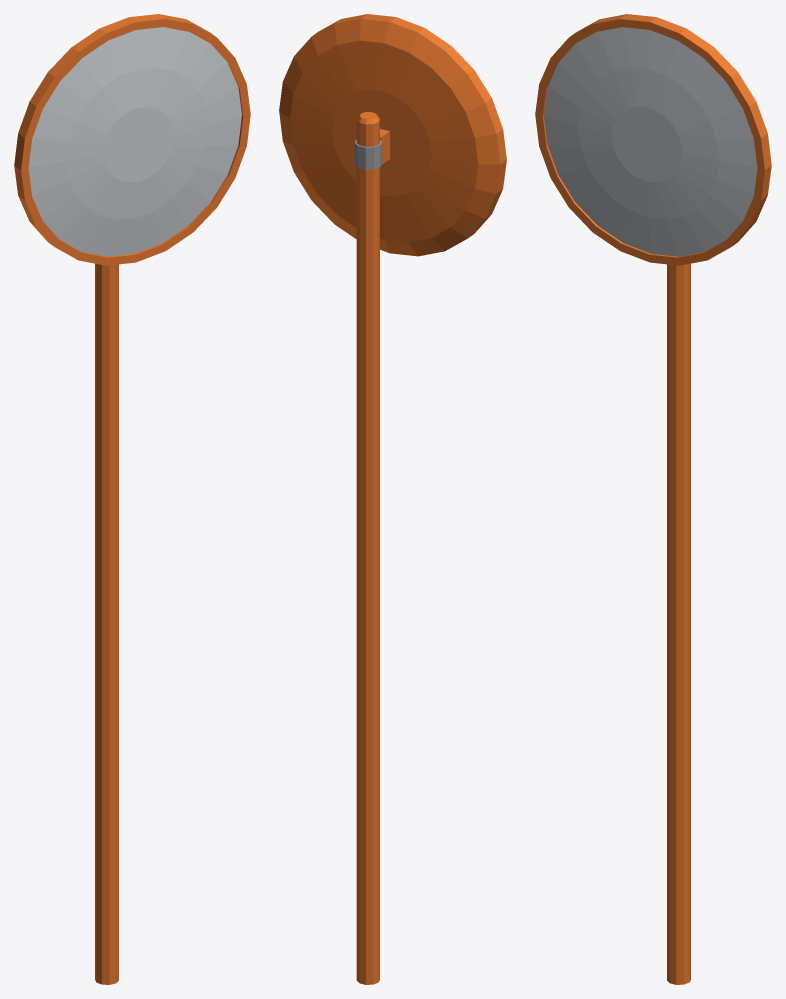
File: SM_Street_CurveMirror_Round_Single_01.gltf
The picture shows the model from 3 angles, left to right: view 1: azimuth 30°, elevation 25°; view 2: azimuth 150°, elevation 25°; view 3: azimuth 330°, elevation 25°; orthographic projection. The views are drawn at different scales.
Visible parts, largest first — view 1: SM_Street_CurveMirror_Round_Single_01; view 2: SM_Street_CurveMirror_Round_Single_01; view 3: SM_Street_CurveMirror_Round_Single_01.
Boxes of the visible parts, bbox=[...] form: SM_Street_CurveMirror_Round_Single_01: bbox=[14, 14, 250, 984]; SM_Street_CurveMirror_Round_Single_01: bbox=[279, 14, 506, 984]; SM_Street_CurveMirror_Round_Single_01: bbox=[535, 14, 771, 984].
Bounding box in the file's own units: 0.83 × 3.38 × 0.2427.
1 material, 1 textured.
